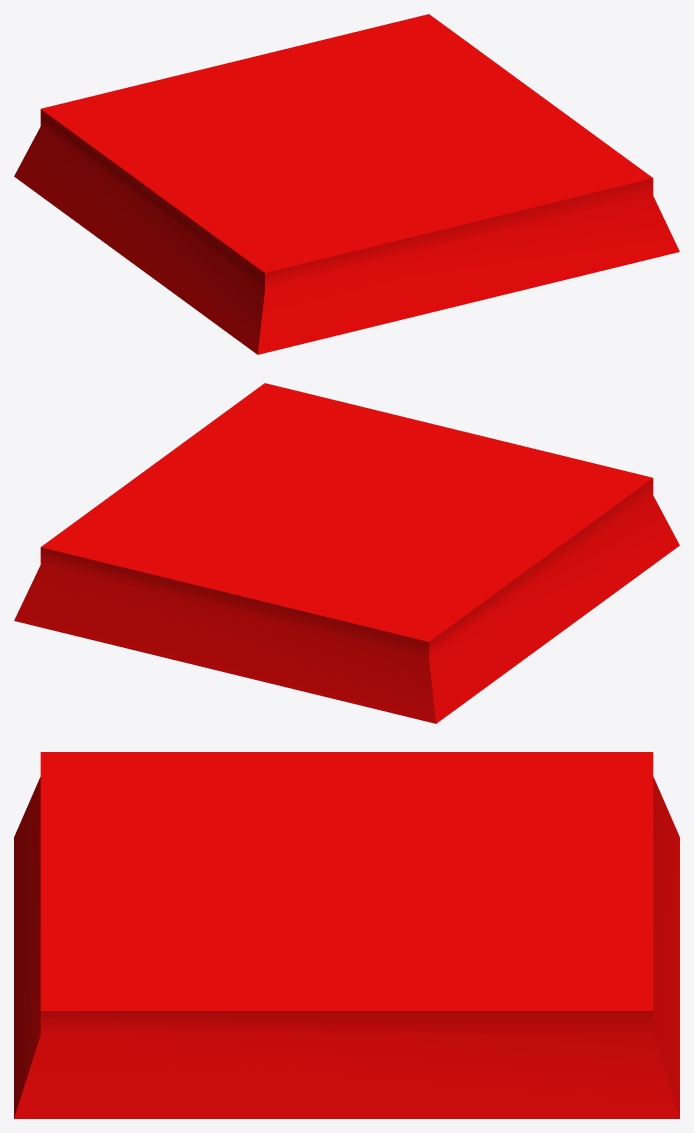
File: SquareBase (2).fbx
3 views of the same model, one above another, from view 1: azimuth 30°, elevation 25°; view 2: azimuth 150°, elevation 25°; view 3: azimuth 270°, elevation 25° (orthographic). The views are drawn at different scales.
Parts seen in each view (by area): view 1: Object_2.001; view 2: Object_2.001; view 3: Object_2.001.
Boxes of the visible parts, left/top/right/bottom form: Object_2.001: left=14, top=14, right=679, bottom=354; Object_2.001: left=14, top=383, right=679, bottom=723; Object_2.001: left=14, top=752, right=679, bottom=1118.
Size of the model in its own units: 250 by 40 by 250.
